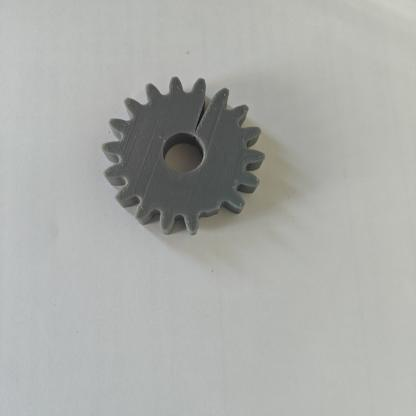defect: (170, 69, 238, 156), (183, 185, 241, 236)
gear: (83, 60, 277, 260)
